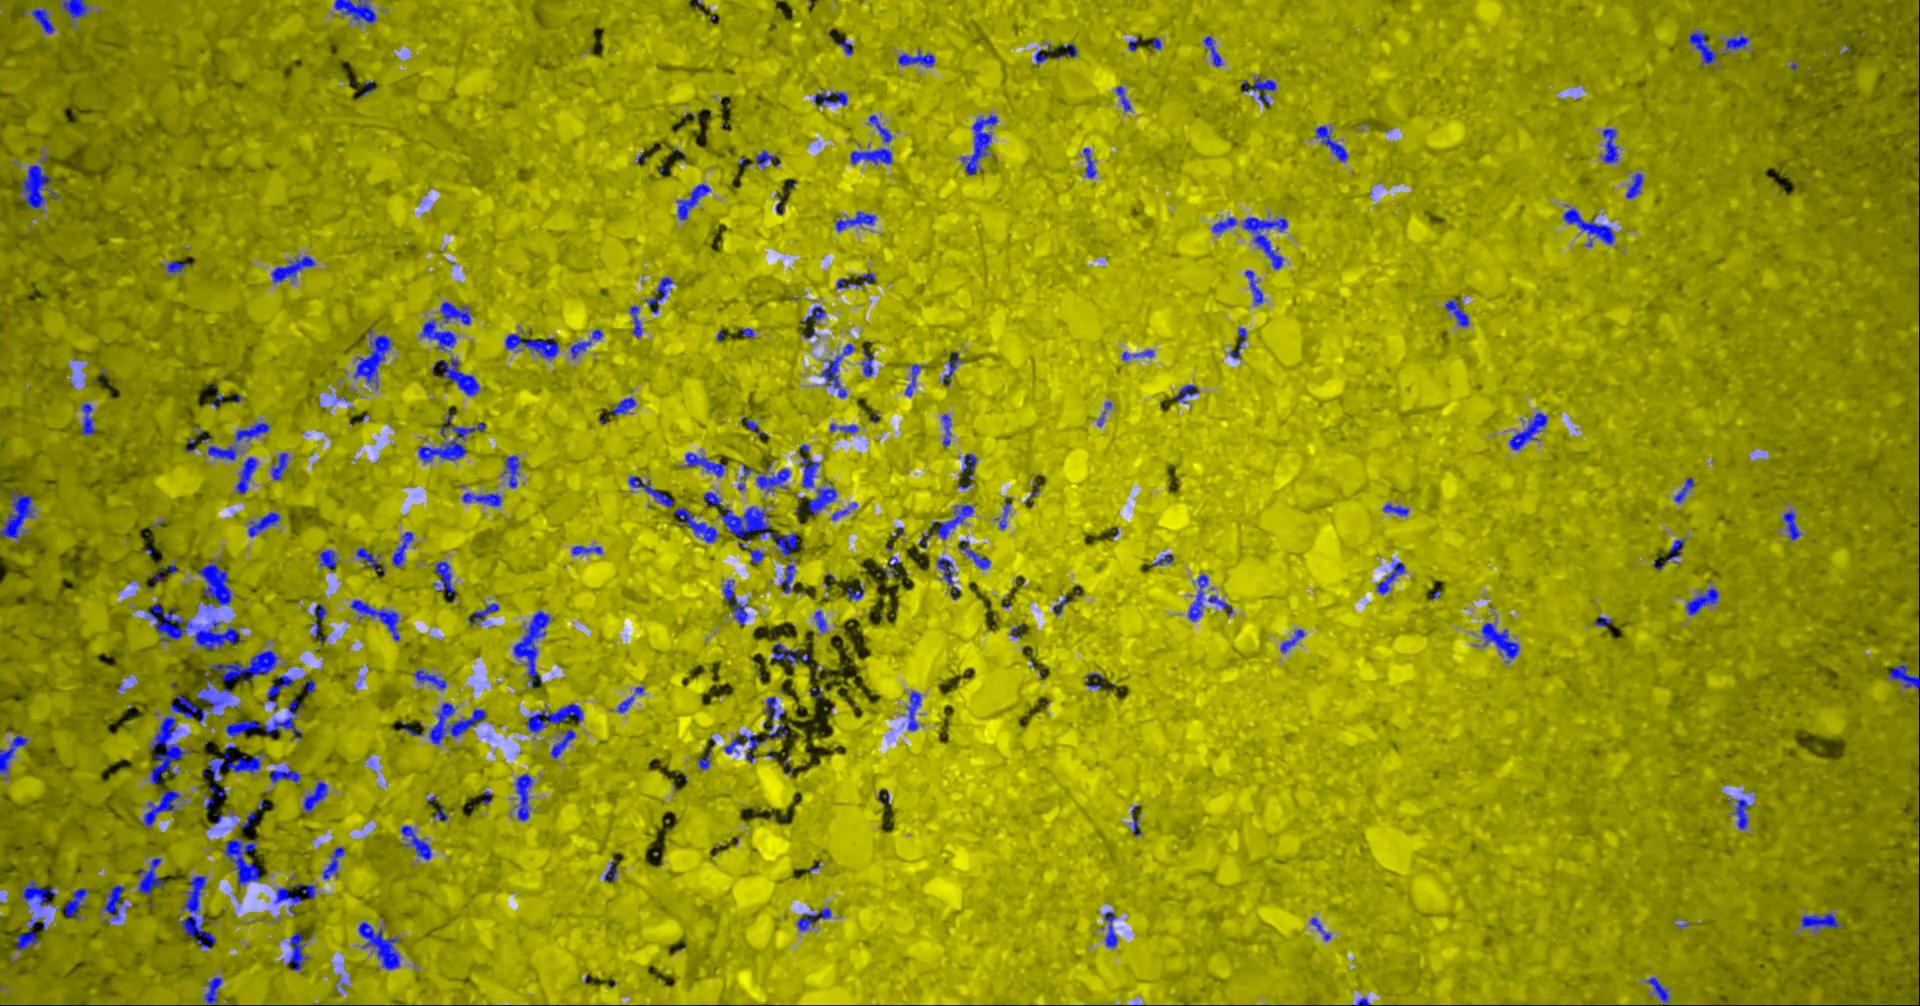ant: (417, 412, 485, 462), (170, 671, 231, 721), (225, 699, 301, 738), (149, 715, 190, 784), (513, 610, 550, 685), (179, 875, 215, 948), (1241, 216, 1288, 269), (353, 326, 392, 387), (207, 422, 269, 460), (428, 702, 485, 743), (210, 650, 279, 682), (960, 114, 997, 174), (201, 746, 262, 780), (357, 921, 399, 969), (350, 600, 399, 640), (819, 343, 855, 398), (1562, 207, 1614, 244), (0, 486, 34, 539), (222, 837, 259, 885), (19, 164, 58, 208), (524, 702, 582, 733), (197, 560, 231, 608), (436, 357, 479, 395), (673, 507, 719, 542), (1481, 622, 1519, 662), (140, 789, 180, 826), (1509, 412, 1547, 450), (931, 504, 973, 539), (504, 333, 559, 358), (629, 475, 672, 507), (676, 183, 710, 218), (1316, 124, 1347, 163), (270, 255, 315, 282), (419, 318, 455, 351), (0, 735, 27, 779), (723, 579, 747, 625), (764, 696, 789, 739), (803, 486, 836, 517), (400, 826, 430, 859), (333, 0, 376, 23), (957, 540, 990, 569), (936, 558, 959, 600), (1187, 574, 1208, 621), (684, 452, 724, 476), (284, 931, 309, 970), (1887, 663, 1919, 692), (1688, 30, 1716, 64), (1377, 561, 1404, 594), (1685, 586, 1718, 614), (265, 674, 293, 708), (138, 857, 163, 895), (235, 456, 258, 494), (22, 880, 55, 906), (756, 467, 790, 492), (796, 907, 830, 931), (834, 211, 875, 231), (248, 511, 279, 536), (303, 780, 328, 813), (63, 887, 88, 920), (645, 276, 672, 305), (740, 733, 767, 762), (516, 774, 532, 821), (550, 728, 575, 758), (274, 887, 301, 915), (15, 918, 38, 950), (391, 531, 411, 567), (103, 884, 123, 920), (323, 846, 344, 879), (356, 547, 383, 573), (771, 643, 808, 662), (439, 301, 470, 324), (850, 147, 891, 164), (1801, 912, 1843, 929), (434, 561, 456, 593), (1251, 76, 1276, 103), (1444, 298, 1468, 326), (869, 114, 891, 142), (1646, 977, 1669, 1005), (897, 50, 935, 66), (800, 455, 819, 488), (413, 669, 446, 688), (30, 8, 55, 33), (1244, 269, 1262, 304), (942, 351, 960, 385), (1101, 911, 1117, 948), (1203, 36, 1222, 66), (469, 603, 499, 622), (461, 492, 502, 506), (905, 690, 919, 730), (1601, 128, 1618, 163), (1280, 629, 1304, 652), (79, 401, 95, 434), (1229, 326, 1246, 358), (503, 455, 519, 486), (1208, 594, 1232, 616), (204, 976, 222, 1005), (312, 605, 326, 641), (61, 0, 88, 19), (905, 363, 921, 396), (269, 766, 300, 782), (1782, 511, 1799, 539), (1672, 478, 1693, 502), (1733, 798, 1749, 829), (813, 91, 847, 105), (610, 398, 636, 415), (150, 563, 177, 580), (877, 555, 900, 575), (1173, 384, 1197, 403), (830, 502, 856, 520), (270, 452, 287, 479), (737, 464, 753, 490), (1310, 917, 1330, 940), (1625, 173, 1642, 198), (780, 564, 794, 593), (961, 453, 977, 480), (1666, 539, 1684, 561), (629, 305, 641, 337), (1115, 85, 1130, 111), (1082, 147, 1095, 178), (803, 305, 824, 323), (756, 150, 778, 166), (996, 502, 1010, 528), (1211, 217, 1236, 232), (740, 419, 764, 434), (570, 340, 590, 358), (293, 883, 315, 899), (1382, 503, 1408, 516), (319, 549, 337, 568), (1724, 36, 1749, 50), (1121, 349, 1153, 359), (941, 414, 951, 446), (861, 349, 872, 376), (1130, 805, 1140, 835), (847, 582, 863, 600), (616, 695, 632, 713), (239, 810, 255, 828), (836, 277, 861, 288), (1055, 43, 1076, 57), (829, 423, 857, 433), (1152, 553, 1173, 565), (813, 610, 825, 631), (571, 545, 602, 554), (1051, 596, 1067, 614), (724, 738, 742, 753), (166, 260, 187, 273), (703, 492, 721, 506), (604, 861, 616, 882), (838, 38, 852, 55), (748, 549, 764, 563), (698, 749, 710, 768), (434, 805, 447, 821), (1592, 616, 1610, 626), (301, 680, 314, 692), (739, 326, 754, 337)
